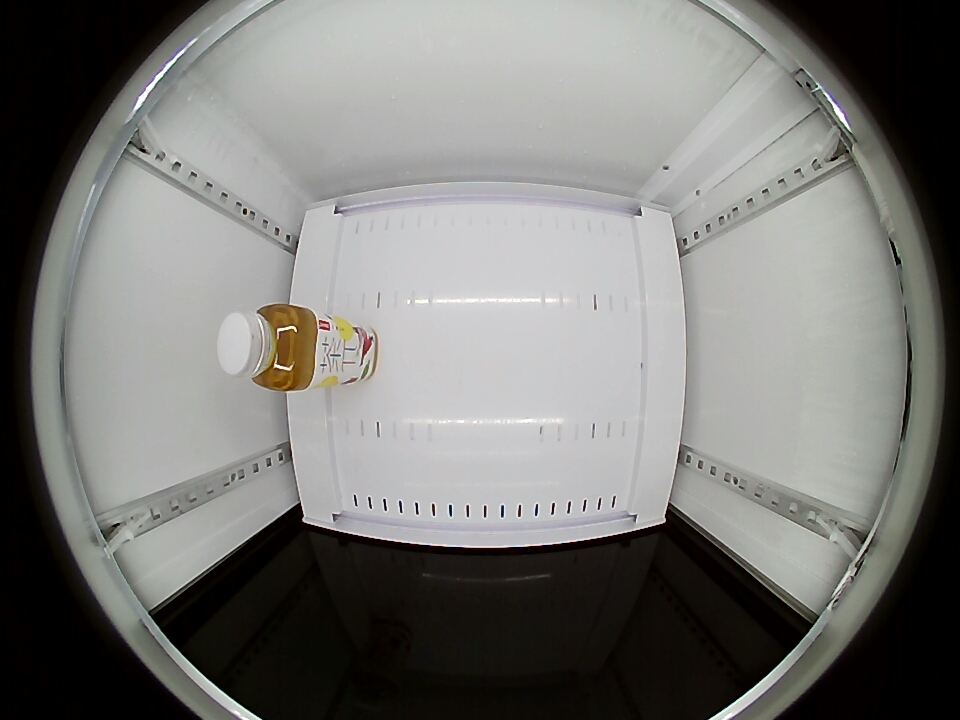chapai: (217, 303, 320, 392)
